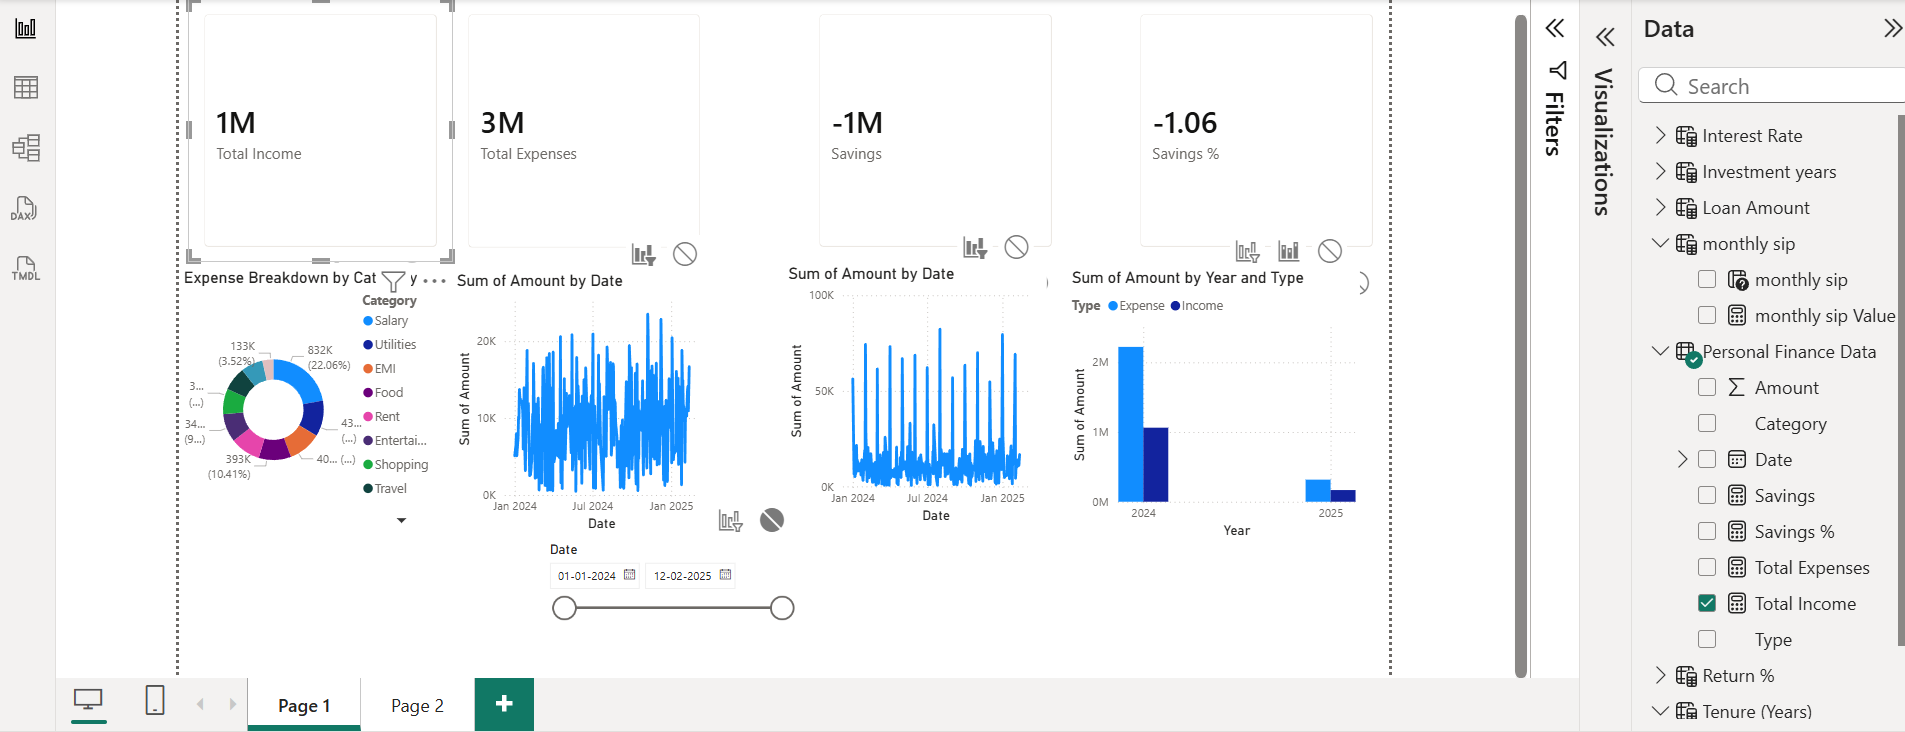

Layout of this report page (visuals, bound fields, positions):
{"tool":"powerbi","page":{"name":"Page 1","canvas":[1280,720],"ordinal":0},"visuals":[{"type":"cardVisual","fields":{"Data":["Personal Finance Data.Total Income"]},"box":[10,0,280,280],"z":0},{"type":"cardVisual","fields":{"Data":["Personal Finance Data.Total Expenses"]},"box":[289.1,0,279.7,281.6],"z":1000},{"type":"cardVisual","fields":{"Data":["Personal Finance Data.Savings %"]},"box":[1000,0,280,280],"z":2000},{"type":"cardVisual","fields":{"Data":["Personal Finance Data.Savings"]},"box":[660,0,280,280],"z":3000},{"type":"lineChart","fields":{"Y":["Sum(Personal Finance Data.Amount)"],"Category":["Personal Finance Data.Date"]},"box":[289.1,289.1,279.7,279.7],"z":4000},{"type":"lineChart","fields":{"Y":["Sum(Personal Finance Data.Amount)"],"Category":["Personal Finance Data.Date"]},"box":[640,281.4,278.6,278.6],"z":5000},{"type":"donutChart","fields":{"Category":["Personal Finance Data.Category"],"Y":["Sum(Personal Finance Data.Amount)"]},"box":[0,285,280,280],"z":6000},{"type":"clusteredColumnChart","fields":{"Y":["Sum(Personal Finance Data.Amount)"],"Series":["Personal Finance Data.Type"],"Category":["Personal Finance Data.Date.Variation.Date Hierarchy.Year","Personal Finance Data.Date.Variation.Date Hierarchy.Quarter","Personal Finance Data.Date.Variation.Date Hierarchy.Month"]},"box":[940,285.7,310,290],"z":7000},{"type":"slicer","fields":{"Values":["Personal Finance Data.Date"]},"box":[380,570,280,150],"z":8000}]}

Visuals, with their boxes on the page's 1280x720 design canvas (x1, y1, x2, y2). These are canvas units, not pixel positions in the 1905x732 screenshot, which may show the page scaled, cropped or inside an application window:
cardVisual - Personal Finance Data.Total Income: x1=10, y1=0, x2=290, y2=280
cardVisual - Personal Finance Data.Total Expenses: x1=289, y1=0, x2=569, y2=282
cardVisual - Personal Finance Data.Savings %: x1=1000, y1=0, x2=1280, y2=280
cardVisual - Personal Finance Data.Savings: x1=660, y1=0, x2=940, y2=280
lineChart - Sum(Personal Finance Data.Amount) x Personal Finance Data.Date: x1=289, y1=289, x2=569, y2=569
lineChart - Sum(Personal Finance Data.Amount) x Personal Finance Data.Date: x1=640, y1=281, x2=919, y2=560
donutChart - Personal Finance Data.Category x Sum(Personal Finance Data.Amount): x1=0, y1=285, x2=280, y2=565
clusteredColumnChart - Sum(Personal Finance Data.Amount) x Personal Finance Data.Type: x1=940, y1=286, x2=1250, y2=576
slicer - Personal Finance Data.Date: x1=380, y1=570, x2=660, y2=720
